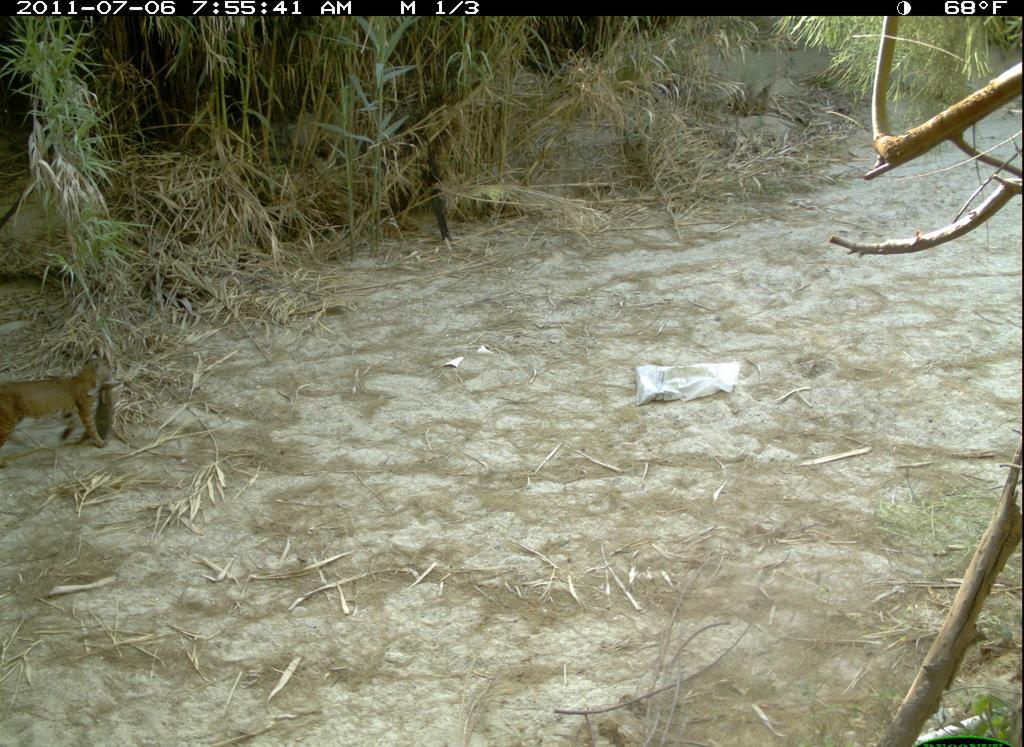rabbit: (64, 374, 129, 451)
